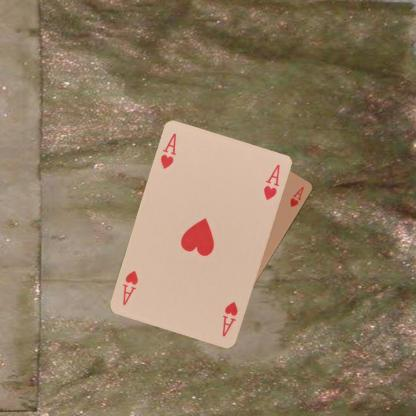Ah: (158, 130, 178, 170), (220, 299, 239, 338)
